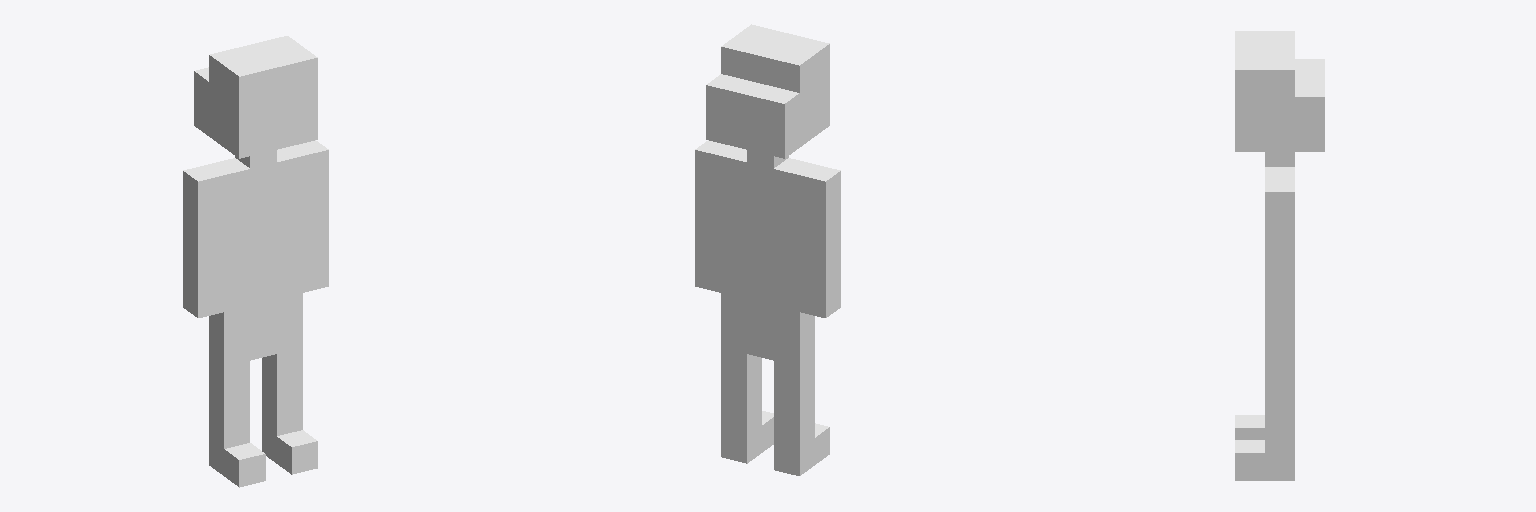
Rendered from Human.vox.obj.
3 views of the same model, side by side, from view 1: azimuth 30°, elevation 25°; view 2: azimuth 150°, elevation 25°; view 3: azimuth 270°, elevation 25° (orthographic).
Parts seen in each view (by area): view 1: object 1; view 2: object 1; view 3: object 1.
Part boxes in pixels (left/top/right/bottom): object 1: left=183, top=36, right=328, bottom=487; object 1: left=695, top=24, right=840, bottom=475; object 1: left=1235, top=31, right=1324, bottom=480.
Size of the model in its own units: 0.5 by 1.5 by 0.3.